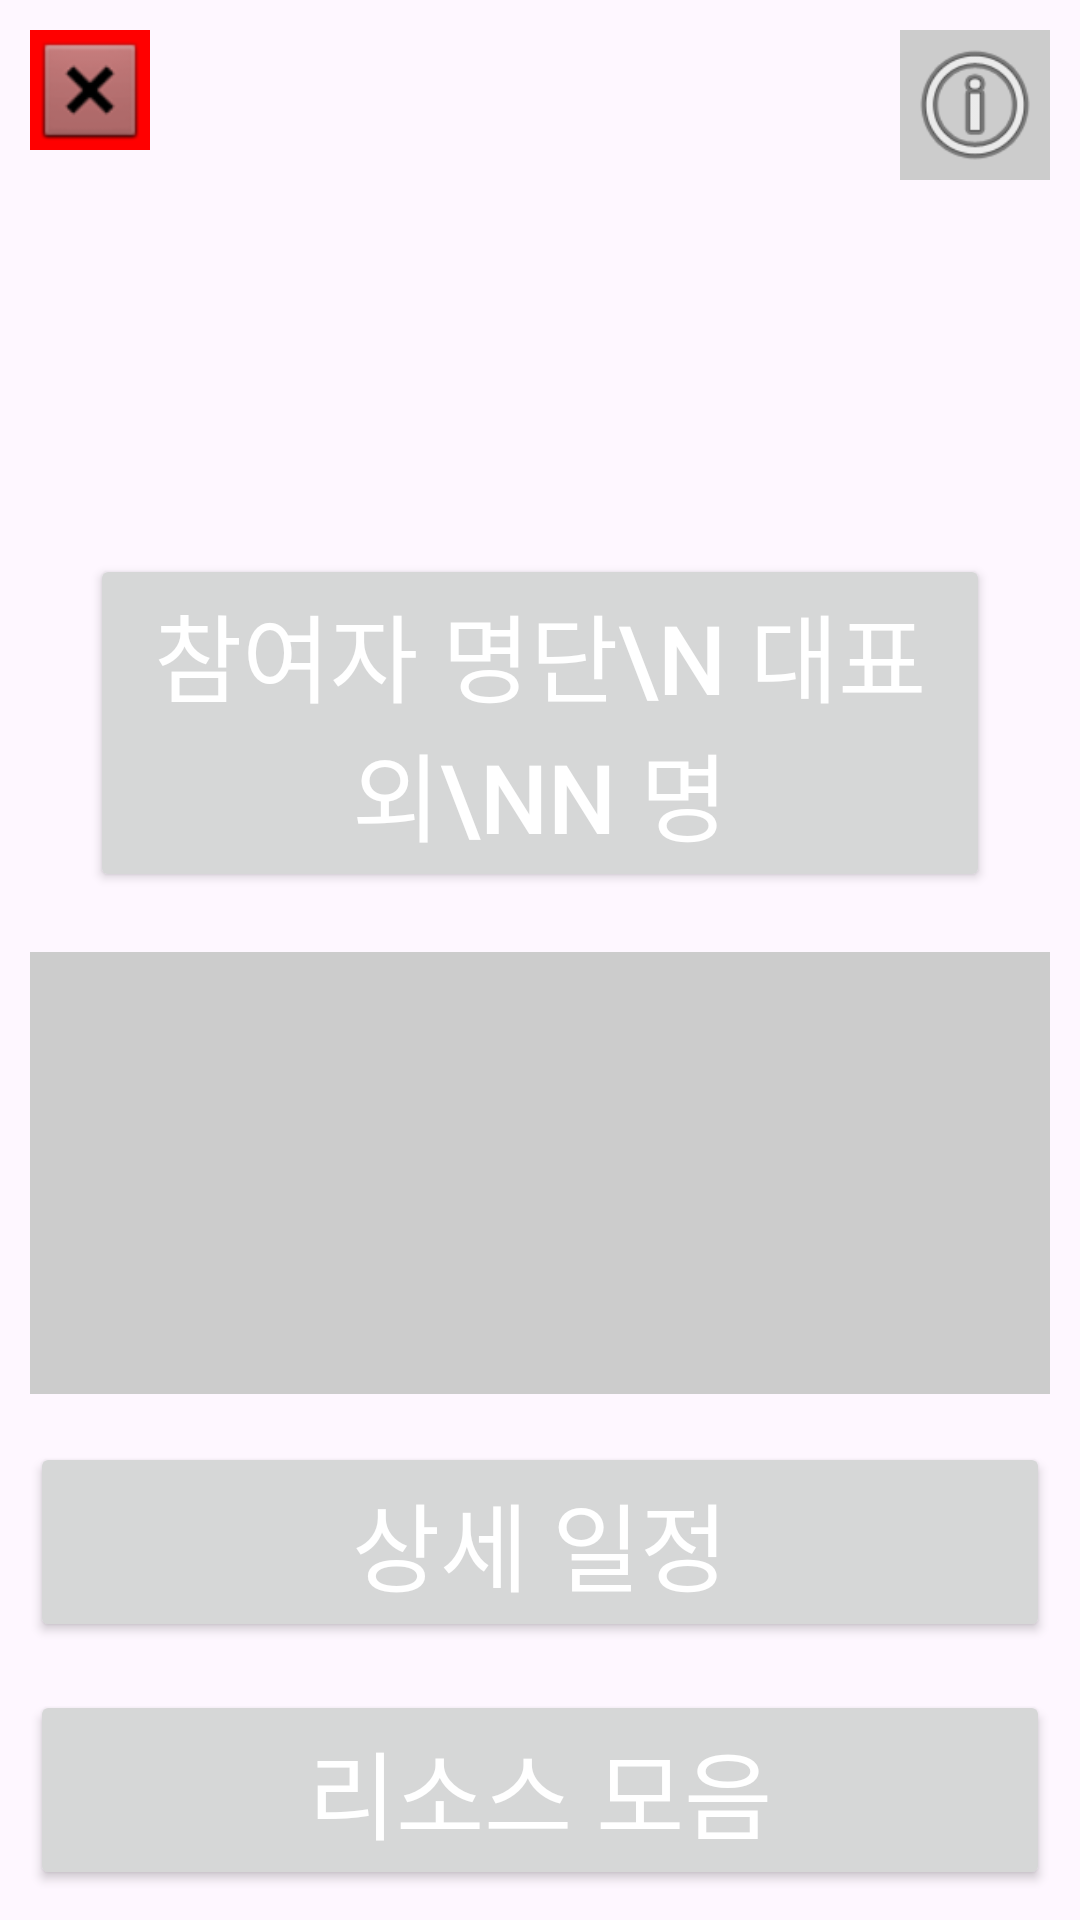

Locate icon controls on the screen. Image size 1080w x 1920h, boxes as {"left": x1, "top": y1, "right": x2, "bottom": y2}.
info details: {"left": 900, "top": 30, "right": 1050, "bottom": 180}
